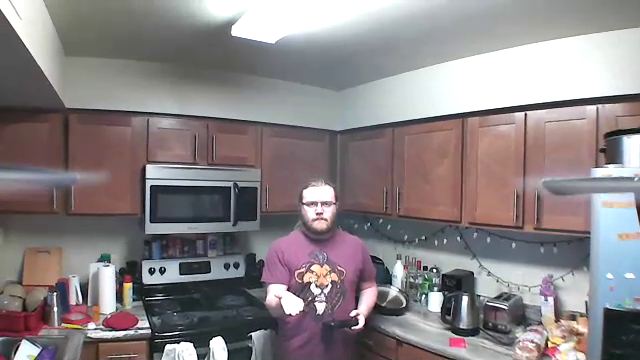land: (272, 287, 308, 321)
